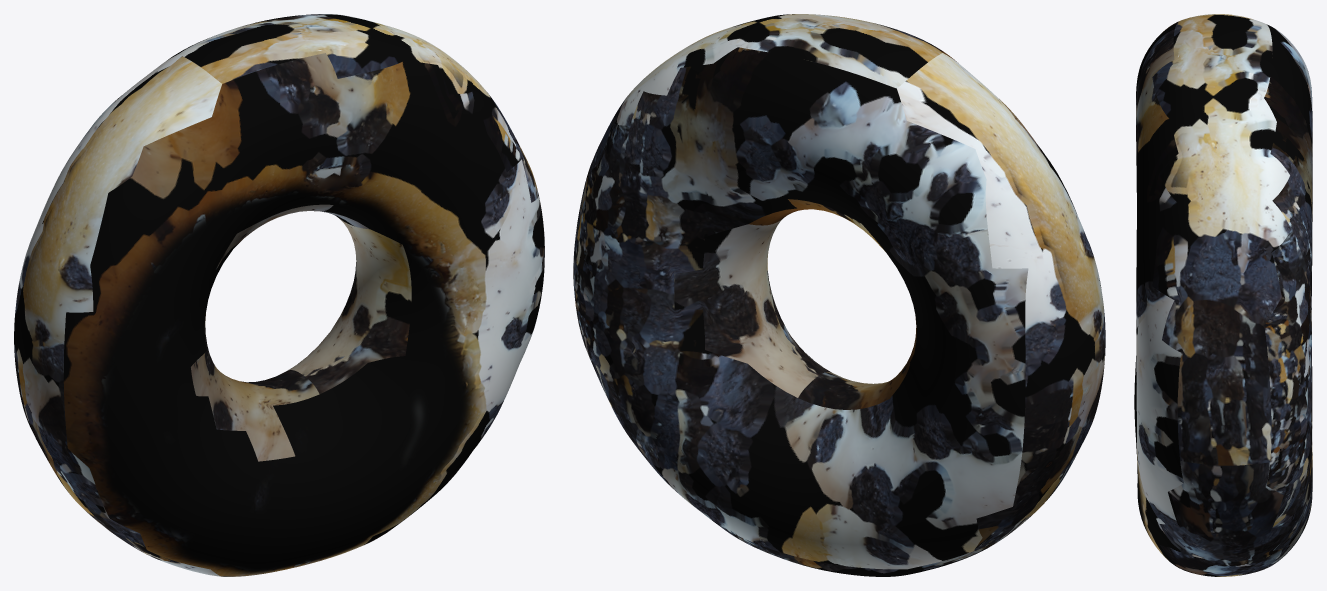
3 views of the same model, side by side, from view 1: azimuth 30°, elevation 25°; view 2: azimuth 150°, elevation 25°; view 3: azimuth 270°, elevation 25° (orthographic). The views are drawn at different scales.
Bounding box in the file's own units: 0.9936 × 0.9932 × 0.3161.
